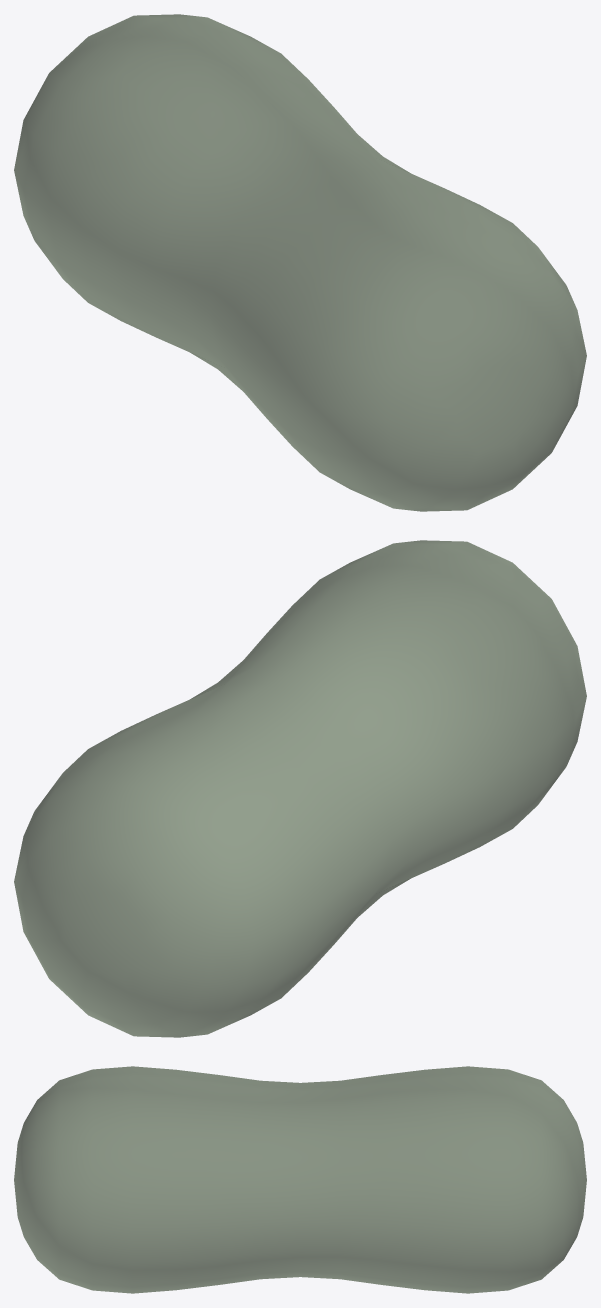
The model's file is microscopic-cells-dividing-cell_v3.glb.
3 renders of one model, top to bottom at view 1: azimuth 30°, elevation 25°; view 2: azimuth 150°, elevation 25°; view 3: azimuth 270°, elevation 25°, orthographic. The views are drawn at different scales.
Visible parts, largest first — view 1: Dividing Cell_v3; view 2: Dividing Cell_v3; view 3: Dividing Cell_v3.
Part boxes in pixels (box(x1,y1,x2,y2)): Dividing Cell_v3: box(14, 14, 586, 511); Dividing Cell_v3: box(14, 540, 586, 1037); Dividing Cell_v3: box(14, 1066, 586, 1293).
Size of the model in its own units: 0.3186 by 0.3186 by 0.8.
